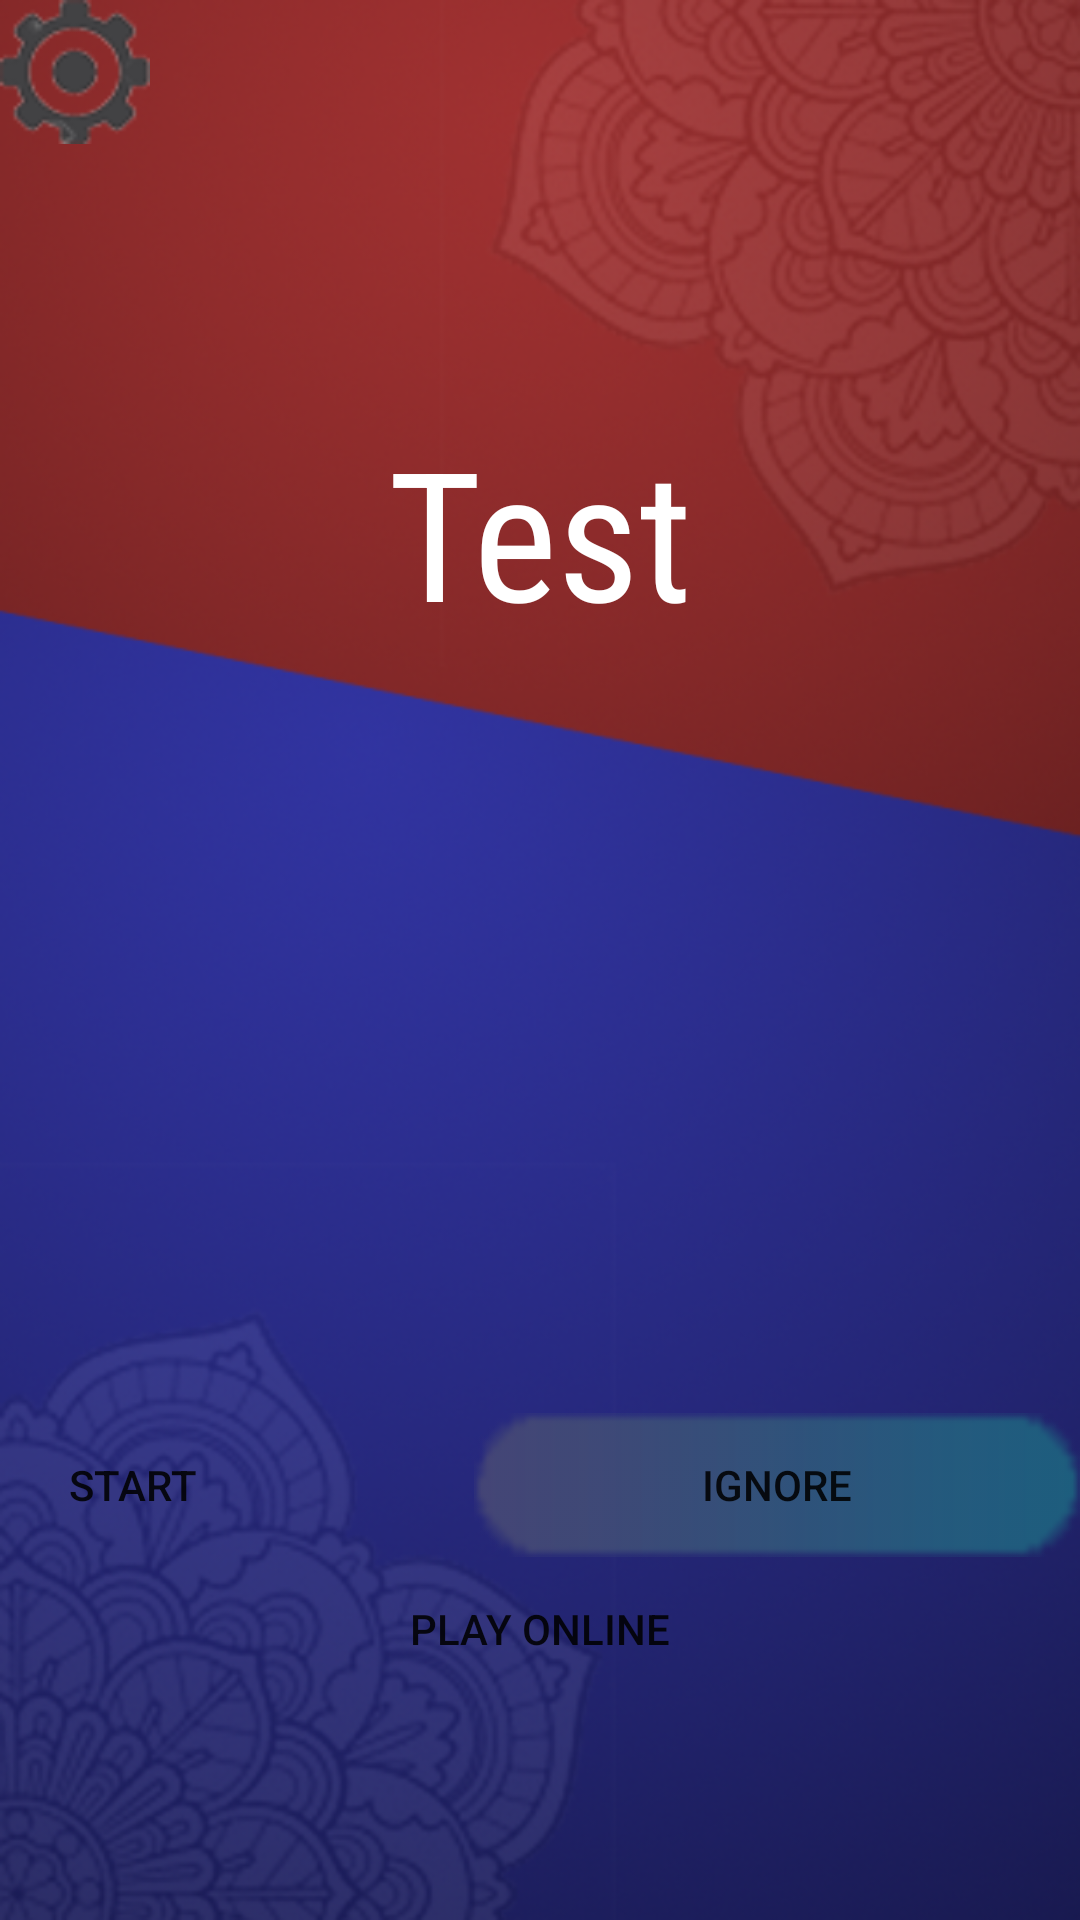

Icon click points for this 1080×1920 phone screenshot, format (x,y):
settingbuttn: (75,72)
